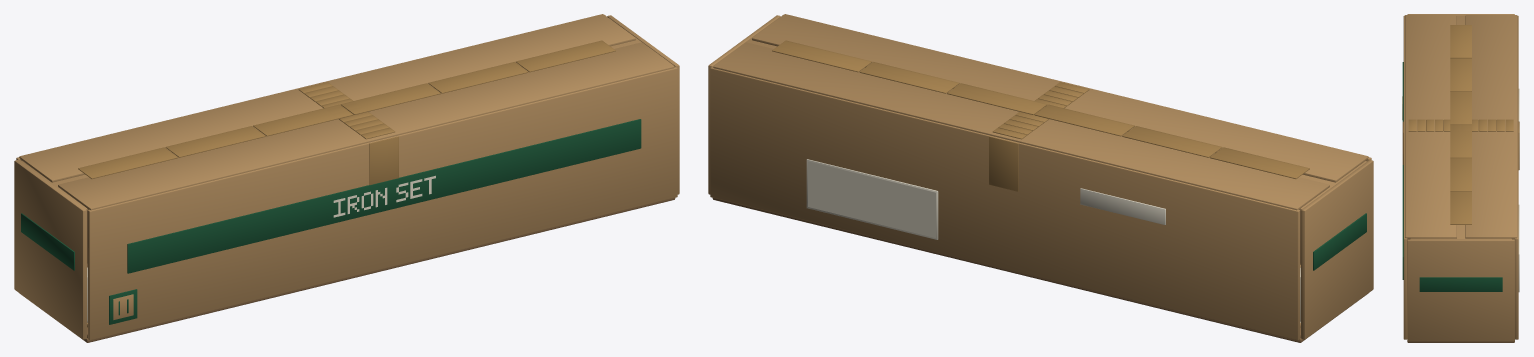
File: delivery_iron_set_carton.glb
3 views of the same model, side by side, from view 1: azimuth 30°, elevation 25°; view 2: azimuth 150°, elevation 25°; view 3: azimuth 270°, elevation 25° (orthographic). The views are drawn at different scales.
Visible parts, largest first — view 1: BOX_FRONT, FLAP_TOP_FRONT, FLAP_TOP_BACK, LABEL_MAIN, BOX_LEFT, TAPE_CENTER, BOX_BASE, TAPE_CROSS_SEG_05, TAPE_CROSS_SEG_01, TAPE_CROSS_SEG_02, TAPE_CROSS_SEG_06, TAPE_CROSS_SEG_03 (+5 smaller); view 2: BOX_BACK, FLAP_TOP_BACK, FLAP_TOP_FRONT, BOX_LEFT, LABEL_DYNAMIC, TAPE_CENTER, BOX_BASE, TAPE_SIDE_BACK, LABEL_FRAGILE, TAPE_CROSS_SEG_05, TAPE_CROSS_SEG_01, TAPE_CROSS_SEG_02 (+6 smaller); view 3: FLAP_TOP_BACK, FLAP_TOP_FRONT, BOX_RIGHT, CATEGORY_SIDE_BAND_RIGHT, TAPE_CENTER, BOX_FRONT, BOX_BACK, TAPE_CROSS_SEG_01, TAPE_CROSS_SEG_02, TAPE_CROSS_SEG_03, TAPE_CROSS_SEG_04, TAPE_CROSS_SEG_05 (+6 smaller).
Boxes of the visible parts, x1,y1,x2,y2 form: BOX_FRONT: [87, 66, 677, 340]; FLAP_TOP_FRONT: [58, 42, 674, 210]; FLAP_TOP_BACK: [19, 14, 635, 182]; LABEL_MAIN: [127, 119, 641, 273]; BOX_LEFT: [14, 160, 86, 339]; TAPE_CENTER: [298, 82, 395, 139]; BOX_BASE: [22, 198, 675, 342]; TAPE_CROSS_SEG_05: [428, 62, 528, 93]; TAPE_CROSS_SEG_01: [78, 147, 178, 178]; TAPE_CROSS_SEG_02: [165, 126, 265, 157]; TAPE_CROSS_SEG_06: [516, 40, 615, 72]; TAPE_CROSS_SEG_03: [253, 104, 352, 136]; BOX_BACK: [710, 66, 1300, 340]; FLAP_TOP_BACK: [713, 42, 1329, 210]; FLAP_TOP_FRONT: [752, 14, 1368, 182]; BOX_LEFT: [1301, 160, 1373, 339]; LABEL_DYNAMIC: [808, 161, 935, 237]; TAPE_CENTER: [992, 82, 1089, 139]; BOX_BASE: [712, 198, 1365, 342]; TAPE_SIDE_BACK: [989, 136, 1018, 191]; LABEL_FRAGILE: [1080, 188, 1165, 224]; TAPE_CROSS_SEG_05: [859, 62, 959, 93]; TAPE_CROSS_SEG_01: [1209, 147, 1309, 178]; TAPE_CROSS_SEG_02: [1122, 126, 1222, 157]; FLAP_TOP_BACK: [1465, 15, 1517, 239]; FLAP_TOP_FRONT: [1405, 15, 1456, 239]; BOX_RIGHT: [1407, 239, 1514, 341]; CATEGORY_SIDE_BAND_RIGHT: [1419, 277, 1502, 291]; TAPE_CENTER: [1408, 119, 1513, 131]; BOX_FRONT: [1403, 15, 1407, 339]; BOX_BACK: [1515, 15, 1518, 339]; TAPE_CROSS_SEG_01: [1450, 25, 1471, 58]; TAPE_CROSS_SEG_02: [1450, 58, 1471, 91]; TAPE_CROSS_SEG_03: [1450, 91, 1471, 124]; TAPE_CROSS_SEG_04: [1450, 124, 1471, 157]; TAPE_CROSS_SEG_05: [1450, 158, 1471, 191].
Size of what is drawn, in the model's own units: 1.12 by 0.2462 by 0.2453.
